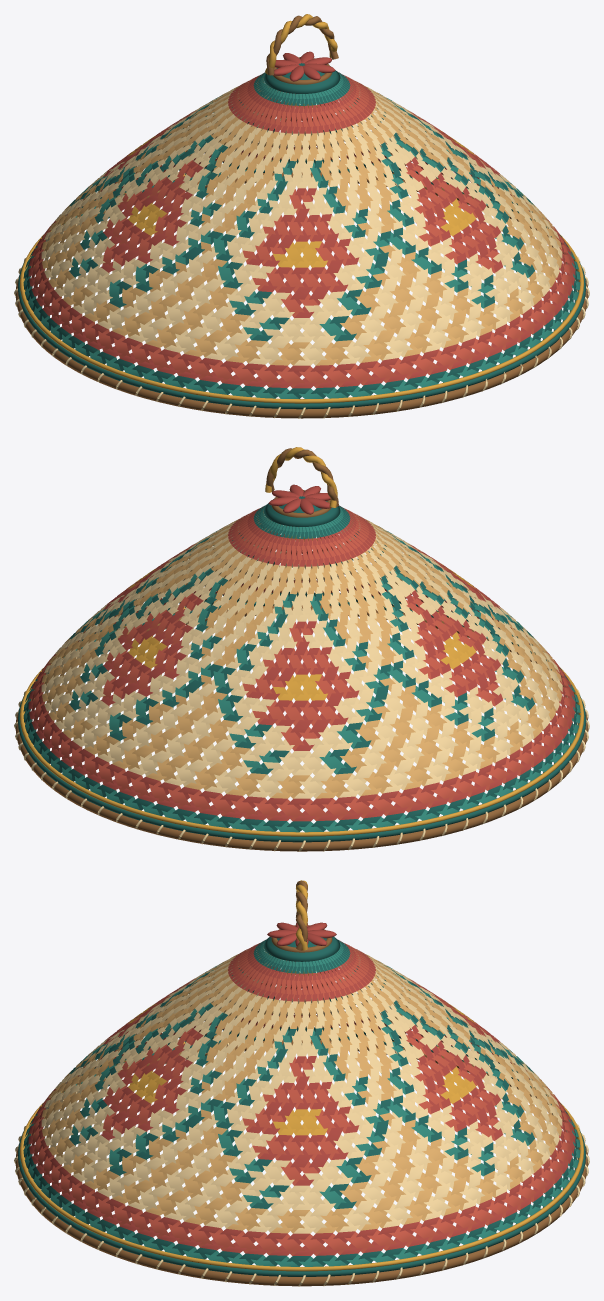
The picture shows the model from 3 angles, top to bottom: view 1: azimuth 30°, elevation 25°; view 2: azimuth 150°, elevation 25°; view 3: azimuth 270°, elevation 25°; orthographic projection.
Visible parts, largest first — view 1: Dye patterned lattice, Split cane rim, Rosette pull; view 2: Dye patterned lattice, Split cane rim, Rosette pull; view 3: Dye patterned lattice, Split cane rim, Rosette pull.
Boxes of the visible parts, left/top/right/bottom form: Dye patterned lattice: left=23, top=72, right=580, bottom=398; Split cane rim: left=14, top=57, right=589, bottom=418; Rosette pull: left=263, top=14, right=340, bottom=93; Dye patterned lattice: left=23, top=505, right=580, bottom=832; Split cane rim: left=14, top=490, right=589, bottom=851; Rosette pull: left=263, top=447, right=340, bottom=526; Dye patterned lattice: left=23, top=939, right=580, bottom=1266; Split cane rim: left=14, top=925, right=589, bottom=1286; Rosette pull: left=263, top=880, right=340, bottom=961.
Bounding box in the file's own units: 0.5108 × 0.2778 × 0.5108.
